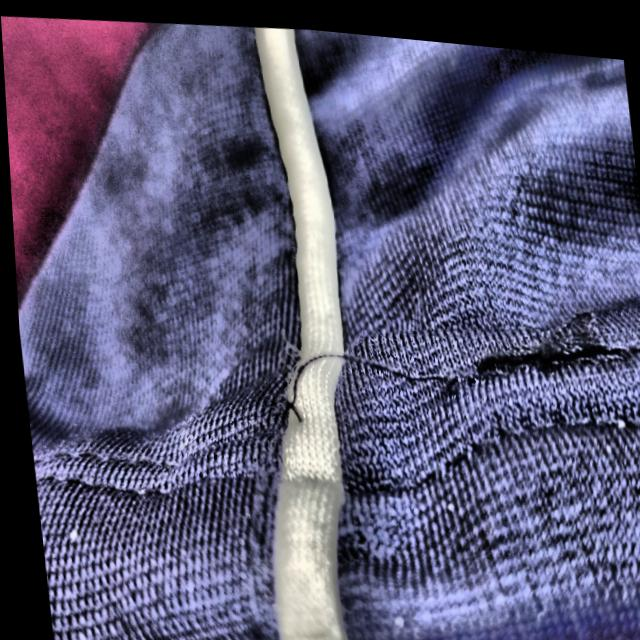Stitch: (232, 302, 518, 469)
